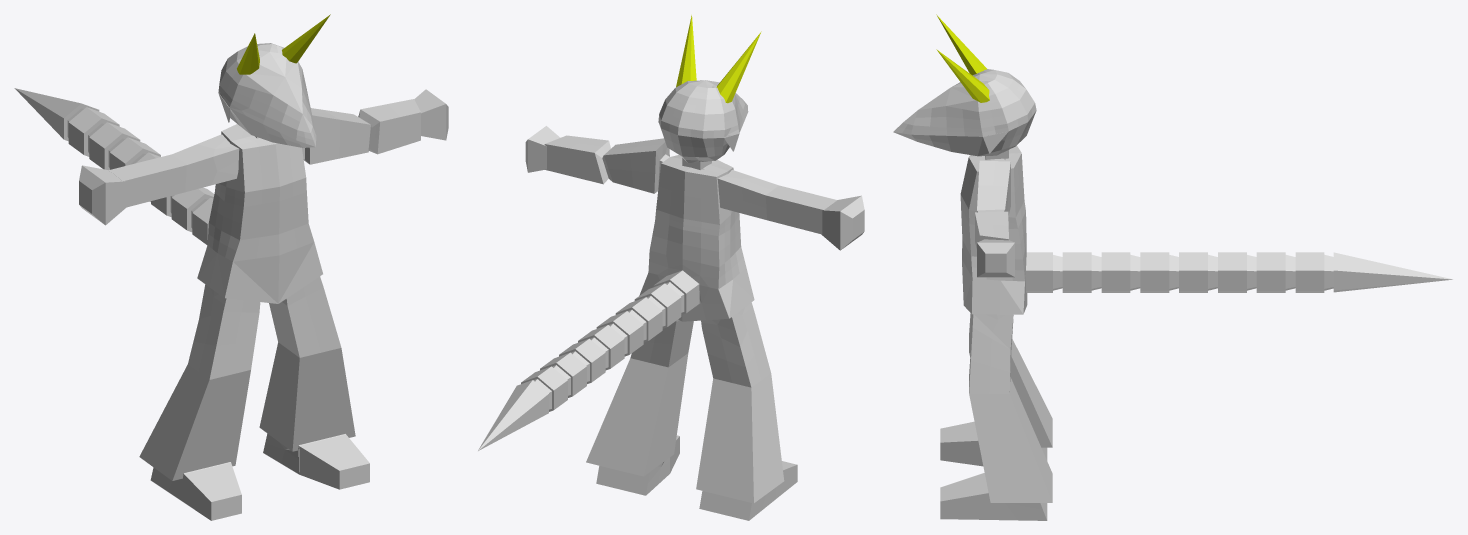
Rendered from templatelineless.fbx.
3 views of the same model, side by side, from view 1: azimuth 30°, elevation 25°; view 2: azimuth 150°, elevation 25°; view 3: azimuth 270°, elevation 25° (orthographic). The views are drawn at different scales.
Parts seen in each view (by area): view 1: leg.001, horns.001; view 2: leg.001, horns.001; view 3: leg.001, horns.001.
Boxes of the visible parts, x1=… form: leg.001: x1=14, y1=43, x2=448, y2=520; horns.001: x1=237, y1=14, x2=330, y2=74; leg.001: x1=477, y1=80, x2=864, y2=520; horns.001: x1=676, y1=15, x2=761, y2=103; leg.001: x1=893, y1=69, x2=1453, y2=520; horns.001: x1=936, y1=14, x2=989, y2=102.
Size of the model in its own units: 159 by 204 by 230.
